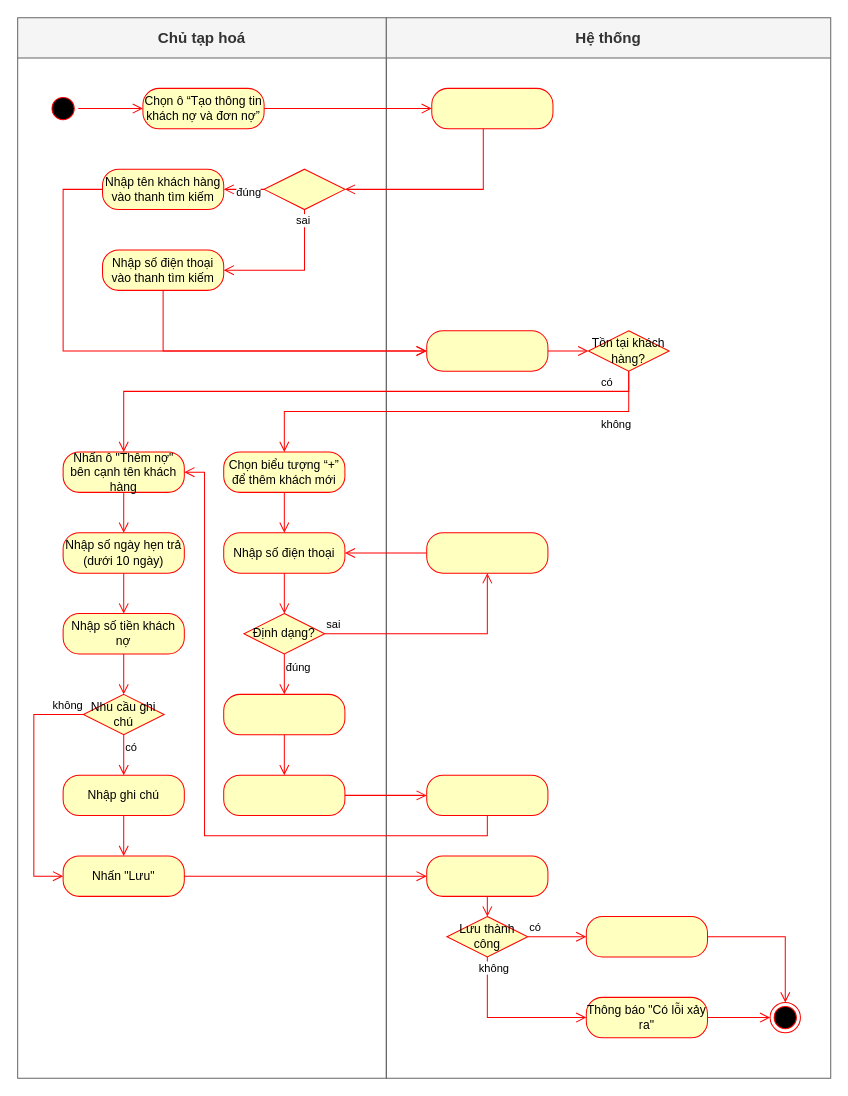
Image size: 848x1096. Some labels were removed from this diagram. Each missing label, with the centre of its shape:
Hiển thị danh sách khách hàng đã lưu trong hệ thống: [492,108]
Hiển thị màn hình chi tiết khách hàng vừa tạo: [487,795]
Hiển thị màn hình sau tìm kiếm: [487,350]
Hiển thị thông báo "Số điện thoại không hợp lệ, nhập lại.": [487,552]
Lưu thông tin khách nợ, đơn nợ và ngày tạo đơn: [487,875]
Nhấn "Thêm khách hàng": [284,795]
Nhập tên khách hàng: [284,714]
Thông báo "Lưu thành công": [646,936]
Tìm kiếm bằng tên?: [304,189]
